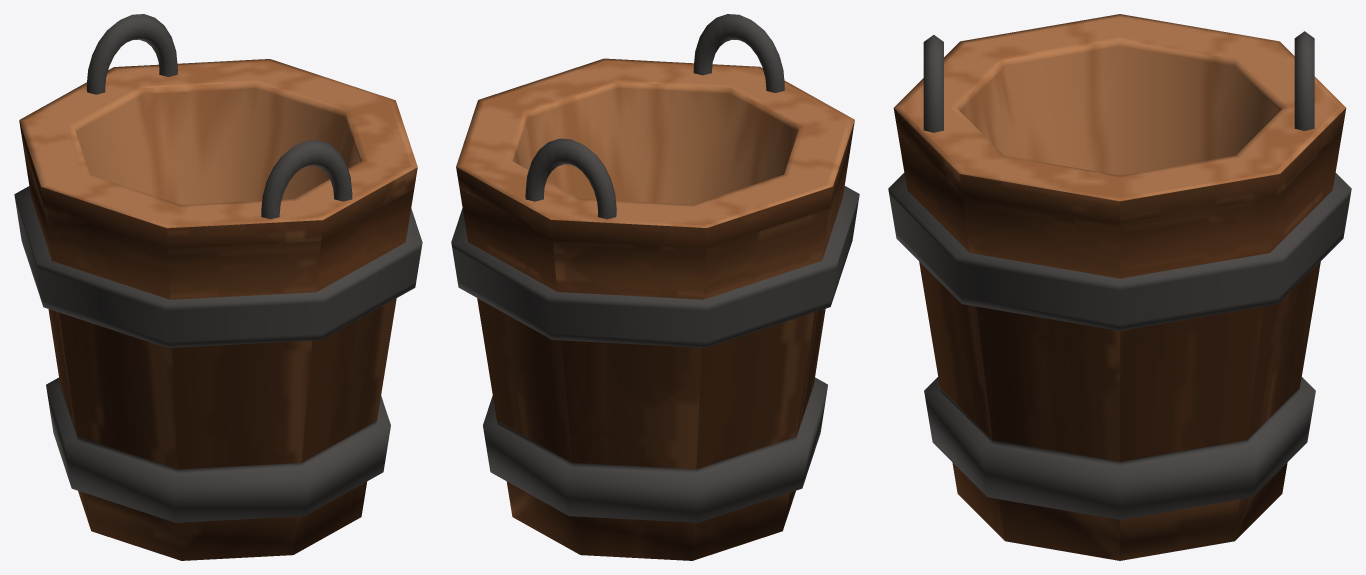
File: Balde.fbx
3 renders of one model, left to right at view 1: azimuth 30°, elevation 25°; view 2: azimuth 150°, elevation 25°; view 3: azimuth 270°, elevation 25°, orthographic. The views are drawn at different scales.
Visible parts, largest first — view 1: Bucket_Wood; view 2: Bucket_Wood; view 3: Bucket_Wood.
Boxes of the visible parts, <box> form: Bucket_Wood: <box>14,14,422,560</box>; Bucket_Wood: <box>451,14,859,560</box>; Bucket_Wood: <box>888,14,1351,560</box>.
Bounding box in the file's own units: 157 × 175 × 161.
